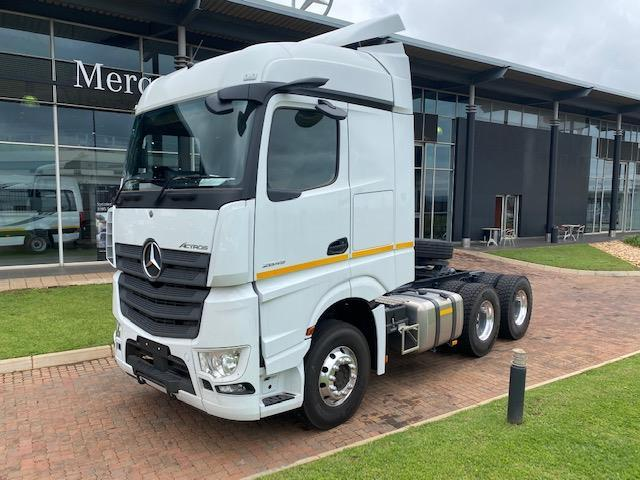truck: (106, 15, 534, 431)
